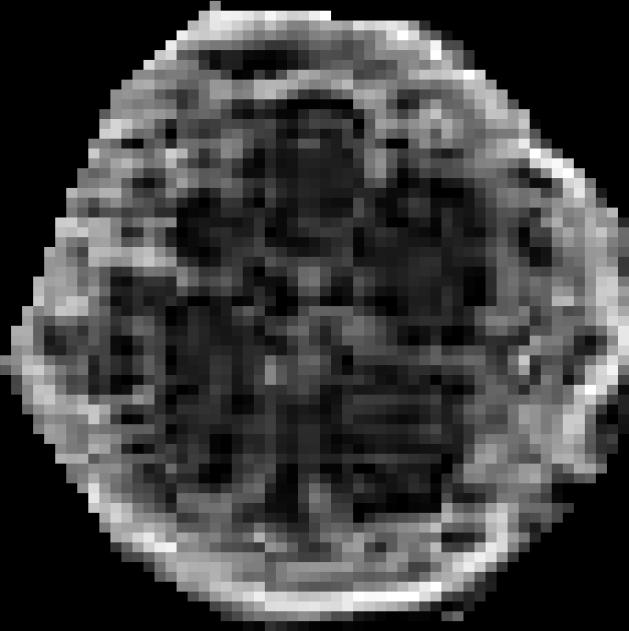tumor_good_chance: (0, 1, 629, 631)
